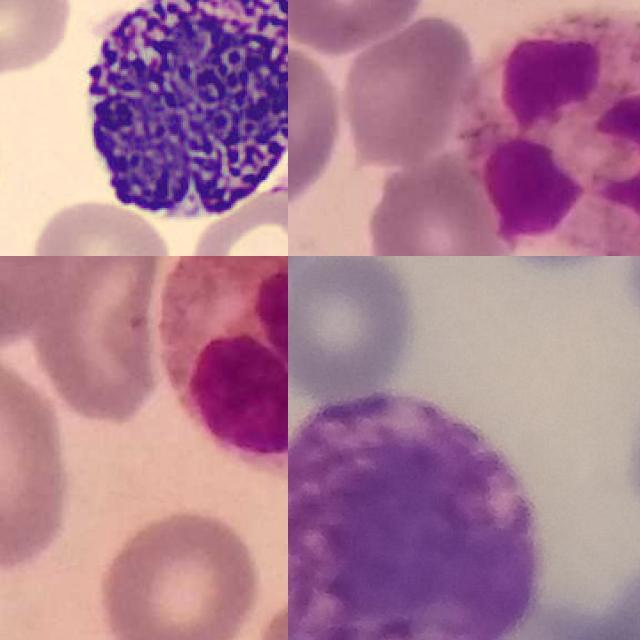Basophil: (288, 388, 539, 640), (65, 0, 288, 234)
Eosinophil: (151, 256, 288, 475)
Neutrophil: (471, 10, 640, 256)
RBC: (25, 196, 176, 256), (184, 183, 288, 256), (0, 0, 76, 77)
